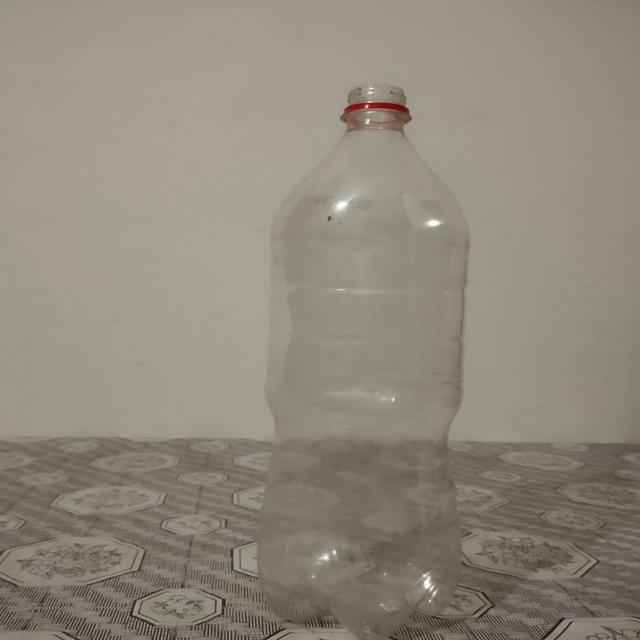bottle: (275, 81, 480, 640)
